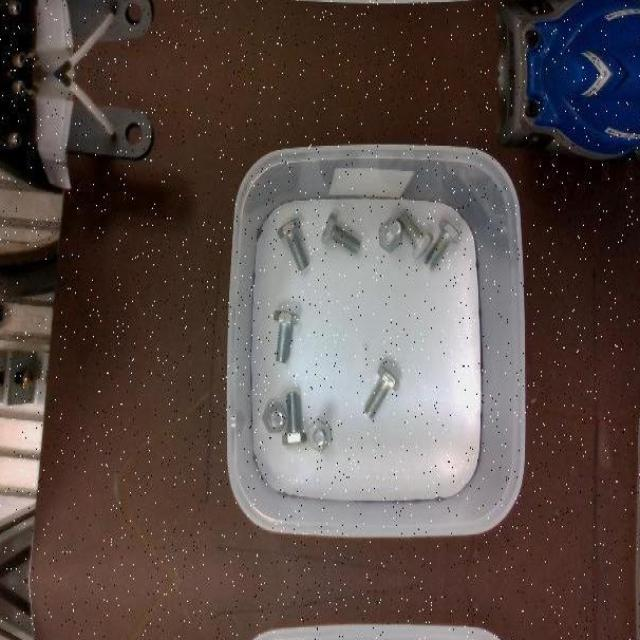screw: (364, 364, 401, 418), (424, 219, 462, 271), (395, 209, 433, 260), (320, 212, 360, 255), (277, 218, 308, 272), (272, 309, 298, 363), (281, 391, 306, 444), (307, 418, 332, 452), (378, 216, 401, 252), (261, 402, 286, 433)
